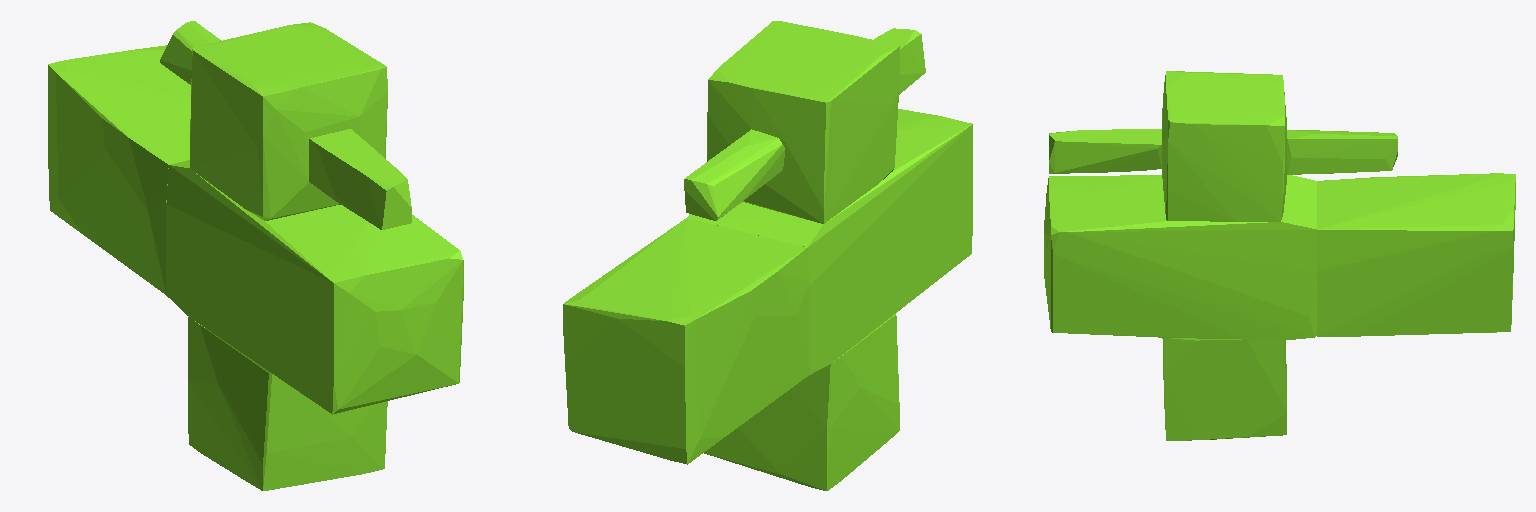
robot.urdf — blob359:
<robot name="blob359">
  <link name="random_obj_359">
    <contact>
      <lateral_friction value="1.0"/>
      <rolling_friction value="0.0"/>
      <inertia_scaling value="3.0"/>
      <contact_cfm value="0.0"/>
      <contact_erp value="1.0"/>
    </contact>
    <inertial>
      <origin rpy="0 0 0" xyz="0 0 0"/>
      <mass value="0.1"/>
      <inertia ixx="1" ixy="0" ixz="0" iyy="1" iyz="0" izz="0"/>
    </inertial>
    <visual>
      <origin rpy="0 0 0" xyz="0 0 0"/>
      <geometry>
        <mesh filename="359.obj" scale="0.015 0.015 0.015"/>
      </geometry>
      <material name="blockmat">
        <color rgba="0.60 0.96 0.25 1"/>
      </material>
    </visual>
    <collision>
      <origin rpy="0 0 0" xyz="0 0 0"/>
      <geometry>
        <mesh filename="359.obj" scale="0.015 0.015 0.015"/>
      </geometry>
    </collision>
  </link>
</robot>

--- Facts derived from the render (not from the file) ---
Views: 3 orthographic renders of the robot side by side, from view 1: azimuth 30°, elevation 25°; view 2: azimuth 150°, elevation 25°; view 3: azimuth 270°, elevation 25°.
Model blob359 with 1 links and 0 joints (none), rooted at random_obj_359, posed all joints at 0.
Visible links, largest first — view 1: random_obj_359; view 2: random_obj_359; view 3: random_obj_359.
Boxes of the visible links, box(x1,y1,x2,y2) form: random_obj_359: box(48, 21, 463, 490); random_obj_359: box(563, 21, 972, 490); random_obj_359: box(1044, 71, 1515, 440).
Size in the robot's own frame: 0.0328 by 0.1229 by 0.0929 metres.
Meshes: 1 distinct files referenced, 1 mesh visuals loaded (1 OBJ).